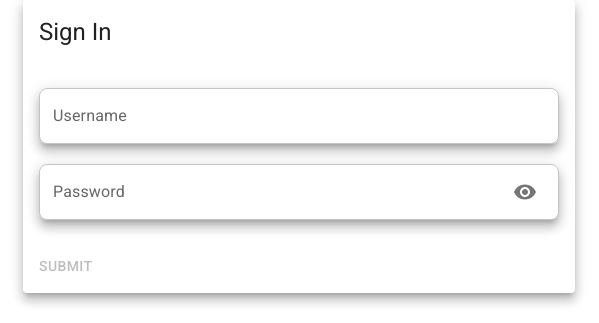
Test case: Sign In form › should show the visibility off icon when the password is shown
This screenshot has width=599, height=323.
Click the button named "Show Password": (525, 192) 505,172 -> 545,212
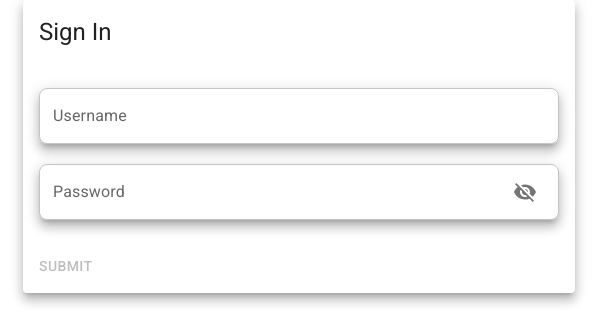
expect the icon with test id "VisibilityOffIcon" is shown: met, box 513,180 -> 537,204
